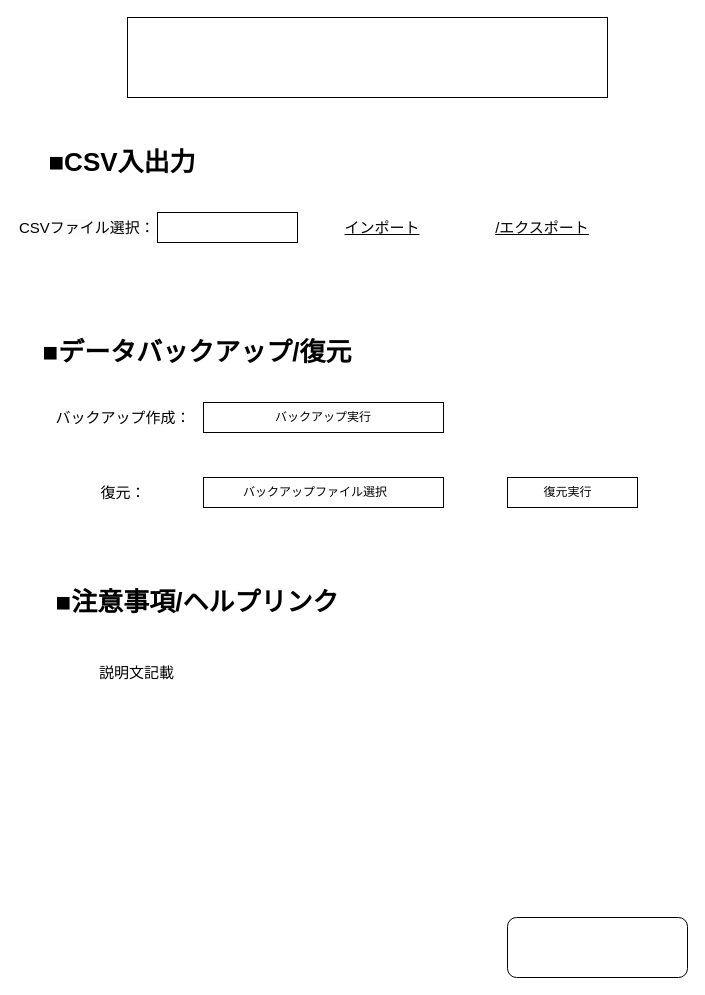
Image size: 705x995. Some labels were removed from this diagram. Each missing label, with the centre of its shape:
データ管理画面: point 367,57
ホームに戻る: point 597,947
